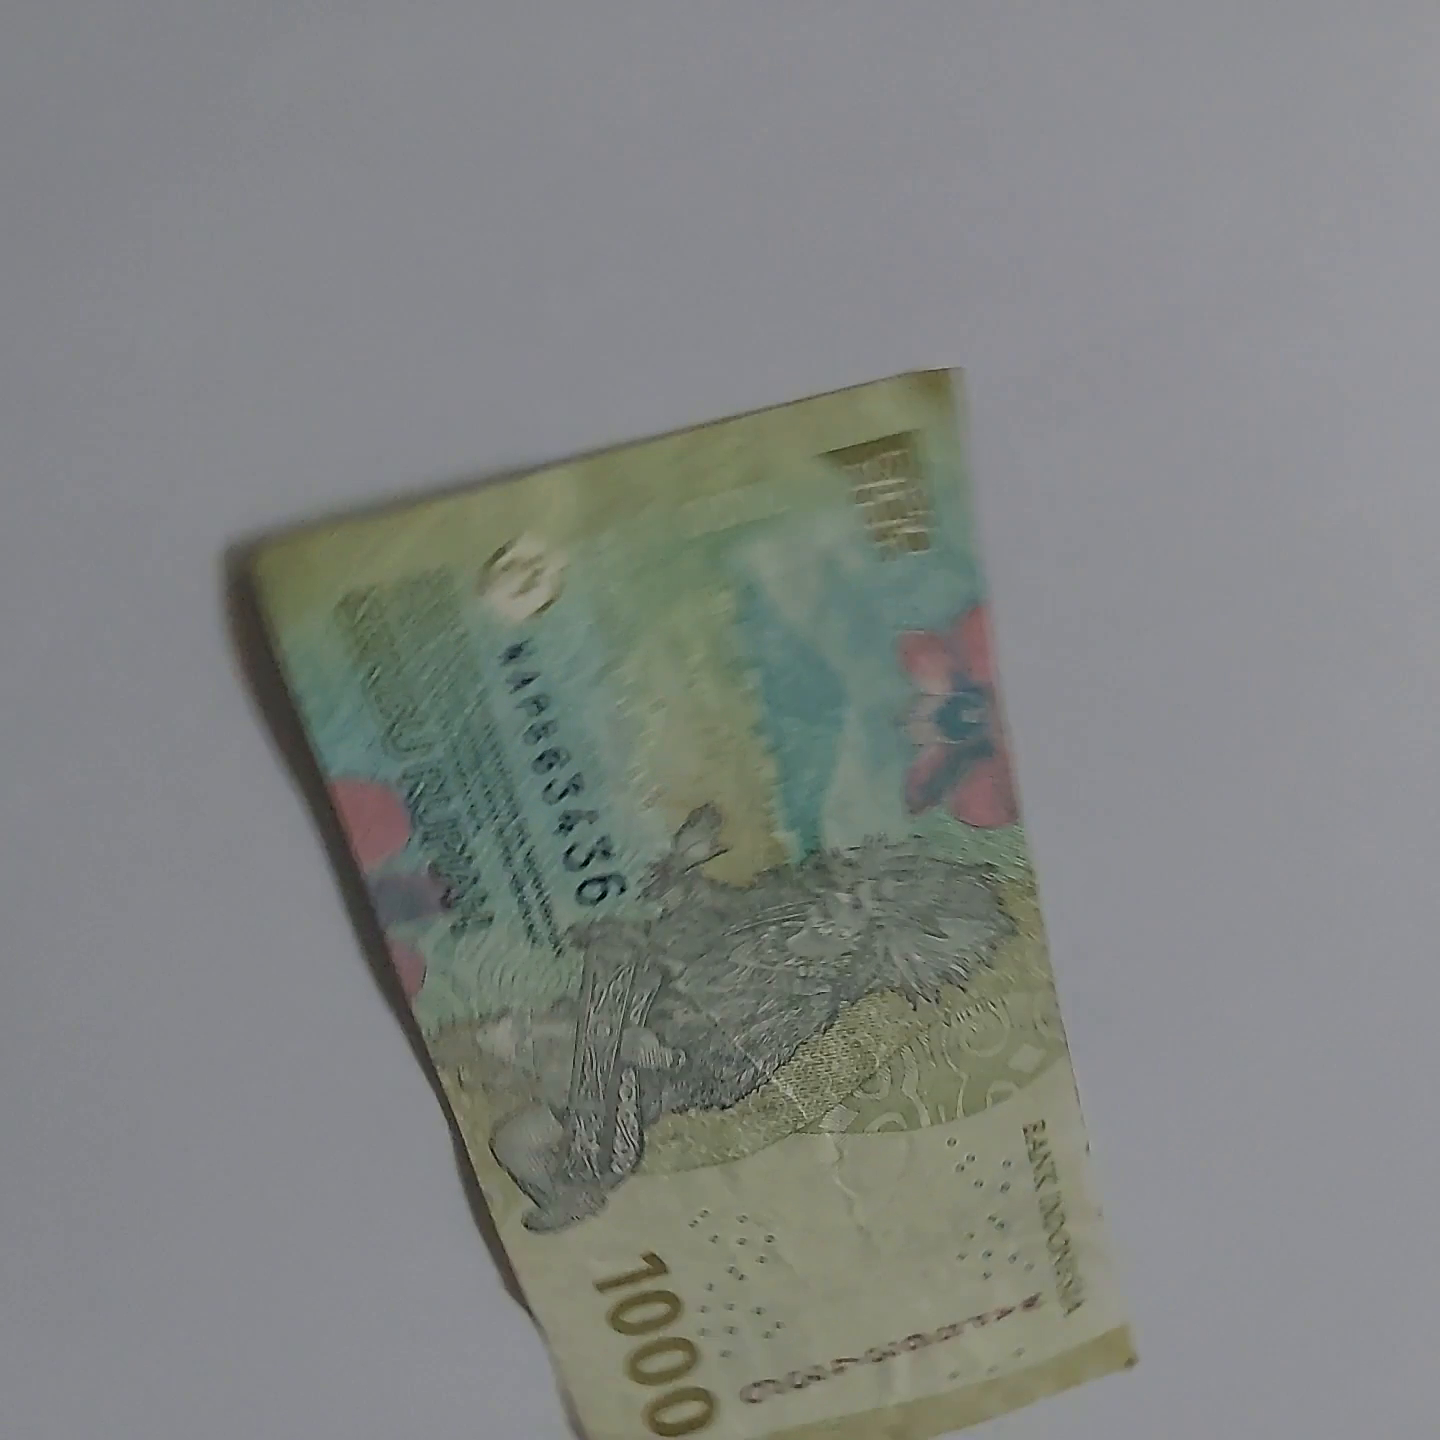1k: (222, 328, 1200, 1440)
